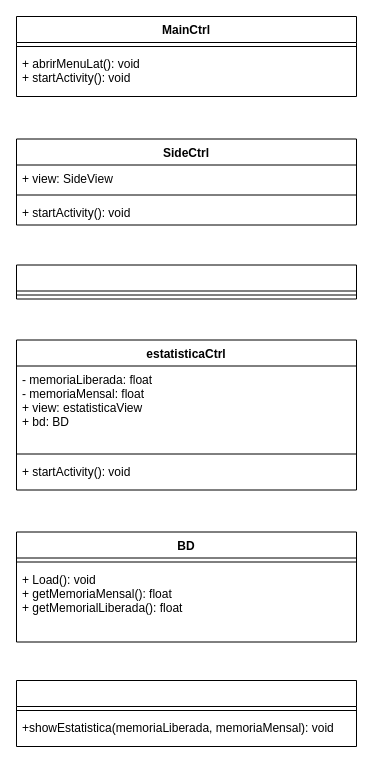
Some shapes in this 373 by 763 pixel diagram are drawn without their labels. Here are the shapes that lost their labels. From the top down, the box of each, then its label:
(16, 264, 356, 299): SideView
(16, 680, 356, 746): estatisticaView
